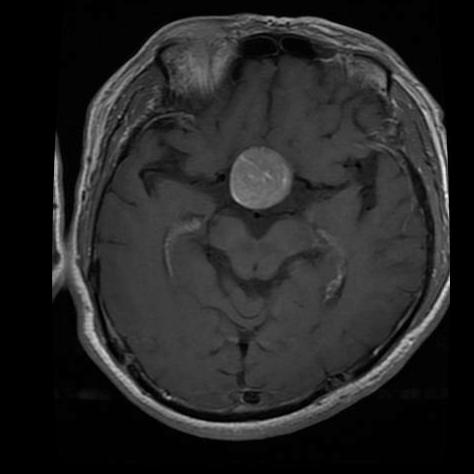Tumour-Pituitary: (224, 151, 297, 210)
